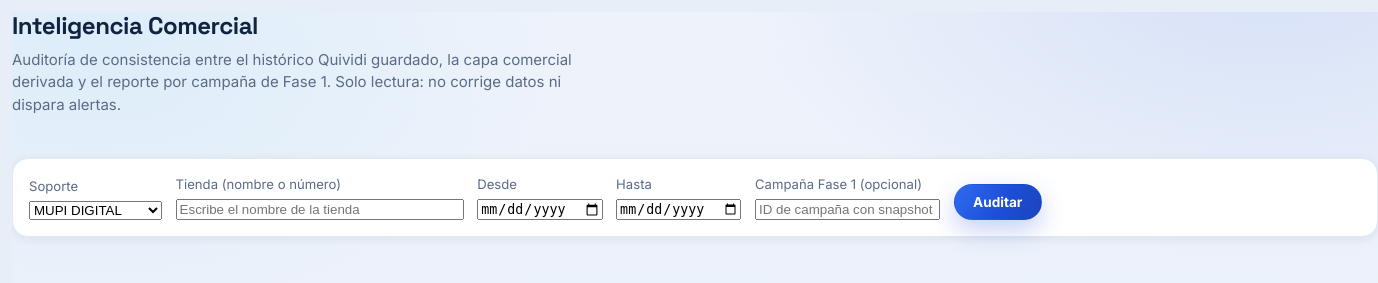
Test case: CommercialIntelligencePage › el click (activación de lectores de pantalla) también elige la sugerencia
This screenshot has width=1378, height=283.
Type "pola" into the dropdown labelled "Tienda (nombre o número)".
click(320, 209); type("pola")  # box [176,199,464,220]
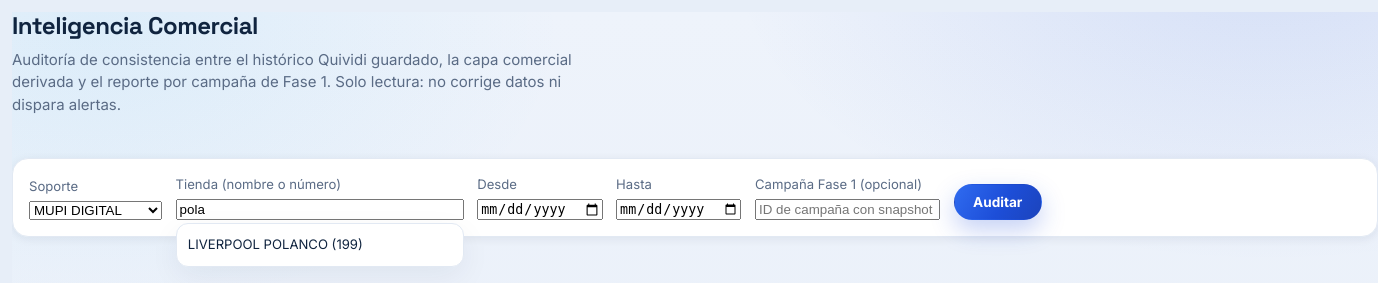
Click the option "LIVERPOOL POLANCO (199)".
click(275, 244)  # box [188,236,363,252]
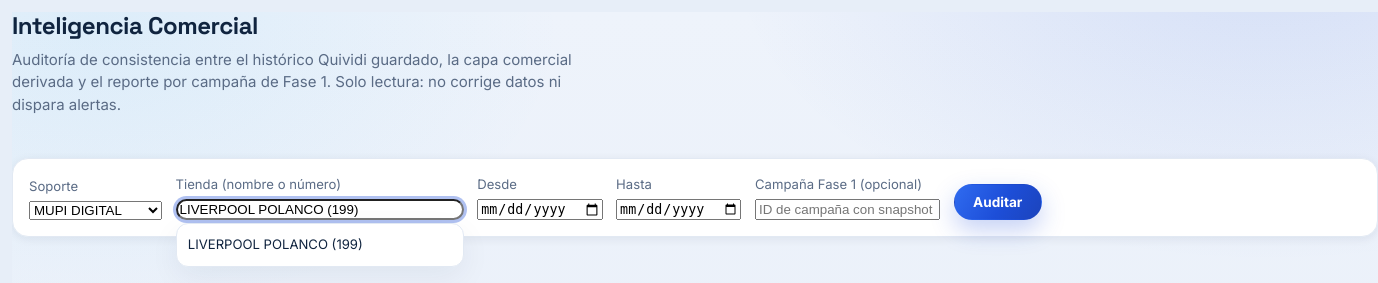
Now the dropdown labelled "Tienda (nombre o número) LIVERPOOL POLANCO (199)" holds "LIVERPOOL POLANCO (199)", box [176,199,464,220]
